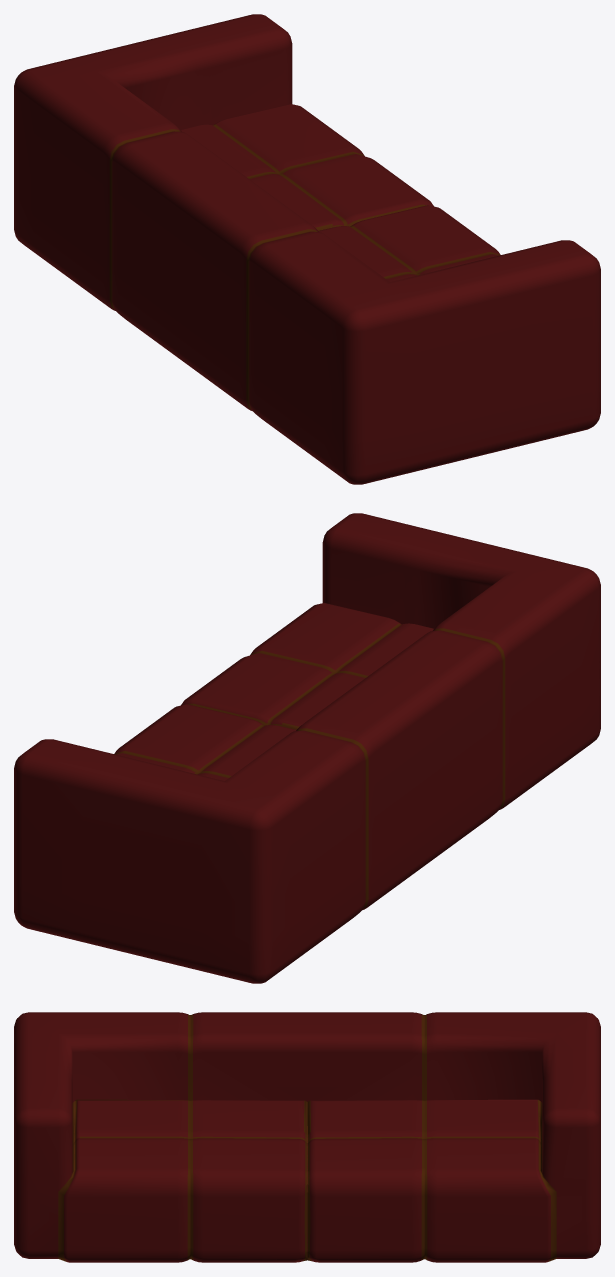
The model's file is Couch3.fbx.
3 views of the same model, one above another, from view 1: azimuth 30°, elevation 25°; view 2: azimuth 150°, elevation 25°; view 3: azimuth 270°, elevation 25° (orthographic). The views are drawn at different scales.
Visible parts, largest first — view 1: pCube14; view 2: pCube14; view 3: pCube14.
Part boxes in pixels (x1,y1,x2,y2): pCube14: (14, 14, 600, 484); pCube14: (14, 513, 600, 983); pCube14: (14, 1012, 600, 1262).
Bounding box in the file's own units: 143 × 90.95 × 324.
Materials: 1 (1 with a texture image).
